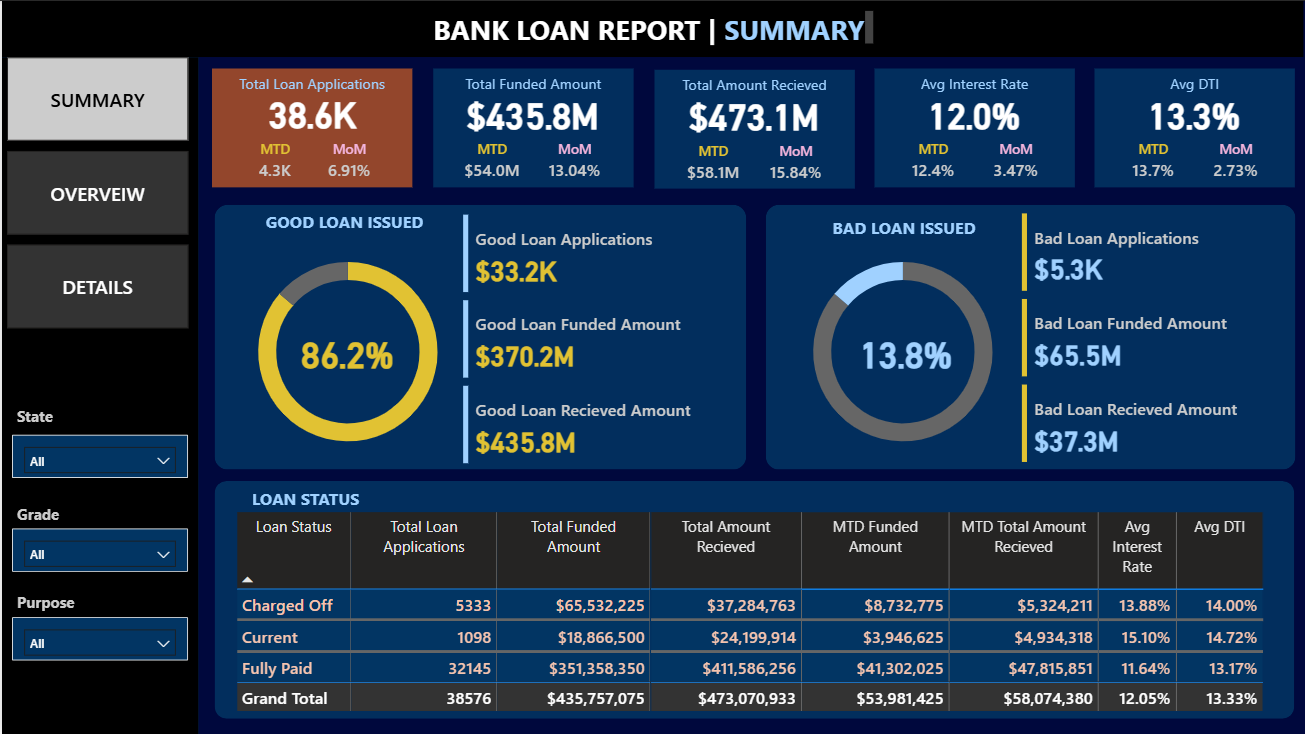

Layout of this report page (visuals, bound fields, positions):
{"tool":"powerbi","page":{"name":"SUMMARY","canvas":[1280,720],"ordinal":0},"visuals":[{"type":"shape","box":[856.5,65.7,196.7,116.7],"z":0,"group":"g4"},{"type":"shape","box":[1072.9,65.7,196.7,116.7],"z":0,"group":"g5"},{"type":"shape","box":[205.6,66.7,196.7,116.7],"z":0,"group":"g1"},{"type":"shape","box":[422.9,66.7,196.7,116.7],"z":0,"group":"g2"},{"type":"shape","box":[640.2,67.1,196.7,116.7],"z":0,"group":"g3"},{"type":"shape","box":[208,200,522,260],"z":0},{"type":"card","fields":{"Values":["bank_loan_data.Avg Interest Rate"]},"box":[873,82.7,163.3,53.3],"z":1000,"group":"g4"},{"type":"card","fields":{"Values":["bank_loan_data.Avg DTI"]},"box":[1089.4,82.7,163.3,53.3],"z":1000,"group":"g5"},{"type":"card","fields":{"Values":["bank_loan_data.Total Loan Applications"]},"box":[238.9,82.9,131.2,53.8],"z":1000,"group":"g1"},{"type":"card","fields":{"Values":["bank_loan_data.Total Funded Amount"]},"box":[439.4,83.7,163.3,53.3],"z":1000,"group":"g2"},{"type":"card","fields":{"Values":["bank_loan_data.Total Amount Recieved"]},"box":[656.7,84.1,163.3,53.3],"z":1000,"group":"g3"},{"type":"donutChart","fields":{"Category":["bank_loan_data.Good v Bad Loan"],"Y":["bank_loan_data.Total Loan Applications"]},"box":[215,230,250,230],"z":1000},{"type":"shape","box":[0,0,1277.5,55],"z":2000},{"type":"textbox","box":[856.5,65.7,196.7,31.7],"z":2000,"group":"g4"},{"type":"textbox","box":[1072.9,65.7,196.7,31.7],"z":2000,"group":"g5"},{"type":"textbox","box":[205.6,66.7,196.7,31.7],"z":2000,"group":"g1"},{"type":"textbox","box":[422.9,66.7,196.7,31.7],"z":2000,"group":"g2"},{"type":"textbox","box":[640.2,67.1,196.7,31.7],"z":2000,"group":"g3"},{"type":"card","title":"MTD","fields":{"Values":["bank_loan_data.MTD Avg Interest Rate"]},"box":[880.8,136.1,66.7,46.7],"z":3000,"group":"g4"},{"type":"card","title":"MTD","fields":{"Values":["bank_loan_data.MTD Avg DTI"]},"box":[1097.2,136.1,66.7,46.7],"z":3000,"group":"g5"},{"type":"card","title":"MTD","fields":{"Values":["bank_loan_data.MTD Loan Applications"]},"box":[238.9,136.7,57.5,46.2],"z":3000,"group":"g1"},{"type":"card","title":"MTD","fields":{"Values":["bank_loan_data.MTD Funded Amount"]},"box":[447.2,137.1,66.7,46.7],"z":3000,"group":"g2"},{"type":"card","title":"MTD","fields":{"Values":["bank_loan_data.MTD Total Amount Recieved"]},"box":[664.5,137.5,66.7,46.7],"z":3000,"group":"g3"},{"type":"textbox","box":[238.3,200,196.7,31.7],"z":3000},{"type":"shape","box":[0,55,193,665],"z":4000},{"type":"card","title":"MoM","fields":{"Values":["bank_loan_data.MoM Avg Int Rate"]},"box":[961.9,136.1,66.7,46.7],"z":4000,"group":"g4"},{"type":"card","title":"MoM","fields":{"Values":["bank_loan_data.MoM Avg DTI"]},"box":[1178.3,136.1,66.7,46.7],"z":4000,"group":"g5"},{"type":"card","title":"MoM","fields":{"Values":["bank_loan_data.MoM Loan Applications"]},"box":[311.4,136.7,58.8,46.2],"z":4000,"group":"g1"},{"type":"card","title":"MoM","fields":{"Values":["bank_loan_data.MoM Funded Amount"]},"box":[528.3,137.1,66.7,46.7],"z":4000,"group":"g2"},{"type":"card","title":"MoM","fields":{"Values":["bank_loan_data.MoM Total Amount Recieved"]},"box":[745.6,137.5,66.7,46.7],"z":4000,"group":"g3"},{"type":"card","fields":{"Values":["bank_loan_data.Good Loan %"]},"box":[257.5,317.5,162.5,55],"z":5000},{"type":"textbox","box":[418.3,5,441.7,43.3],"z":6000},{"type":"group","id":"g1","title":"Group 1","box":[205.6,66.7,196.7,116.7],"z":7000},{"type":"group","id":"g2","title":"Group 1","box":[422.9,66.7,196.7,117],"z":8000},{"type":"group","id":"g3","title":"Group 1","box":[640.2,67.1,195.7,117.1],"z":9000},{"type":"group","id":"g4","title":"Group 1","box":[856.5,65.7,195.7,117.1],"z":10000},{"type":"group","id":"g5","title":"Group 1","box":[1072.9,65.7,195.7,117.1],"z":11000},{"type":"shape","box":[750,200,520,260],"z":12000},{"type":"cardVisual","fields":{"Data":["bank_loan_data.Good Loan Applications","bank_loan_data.Good Loan Funded Amount","bank_loan_data.Good Loan Recieved Amount"]},"box":[447.5,205,275,255],"z":13000},{"type":"donutChart","fields":{"Category":["bank_loan_data.Good v Bad Loan"],"Y":["bank_loan_data.Total Loan Applications"]},"box":[760,230,250,230],"z":14000},{"type":"shape","box":[208.3,471.7,1060,233.3],"z":15000},{"type":"textbox","box":[786,206,198,32],"z":16000},{"type":"card","fields":{"Values":["bank_loan_data.Bad Loan %"]},"box":[806,318,162,54],"z":17000},{"type":"cardVisual","fields":{"Data":["bank_loan_data.Bad Loan Applications","bank_loan_data.Bad Loan Funded Amount","bank_loan_data.Bad Loan Recieved Amount"]},"box":[996,204,274,254],"z":18000},{"type":"tableEx","fields":{"Values":["bank_loan_data.loan_status","bank_loan_data.Total Loan Applications","bank_loan_data.Total Funded Amount","bank_loan_data.Total Amount Recieved","bank_loan_data.MTD Funded Amount","bank_loan_data.MTD Total Amount Recieved","bank_loan_data.Avg Interest Rate","bank_loan_data.Avg DTI"]},"box":[225,497.5,1027.5,205],"z":19000},{"type":"textbox","box":[240,472.5,197.5,32.5],"z":20000},{"type":"slicer","fields":{"Values":["bank_loan_data.address_state"]},"box":[10,425.4,172.5,42.5],"z":21000},{"type":"textbox","box":[10,392.9,96.2,40],"z":22000},{"type":"slicer","fields":{"Values":["bank_loan_data.grade"]},"box":[10,517.9,172.5,42.5],"z":23000},{"type":"textbox","box":[10,487.9,96.2,40],"z":24000},{"type":"slicer","fields":{"Values":["bank_loan_data.purpose"]},"box":[10,605.4,172.5,42.5],"z":25000},{"type":"textbox","box":[10,575.4,96.2,40],"z":26000},{"type":"pageNavigator","box":[5,55,178.3,268.3],"z":26001}]}

Visuals, with their boxes in screenshot pixels (x1, y1, x2, y2), scaled from the page's 1280x720 canvas onto the 1305x734 screenshot:
shape: locate(873, 67, 1074, 186)
shape: locate(1094, 67, 1294, 186)
shape: locate(210, 68, 410, 187)
shape: locate(431, 68, 632, 187)
shape: locate(653, 68, 853, 187)
shape: locate(212, 204, 744, 469)
card - bank_loan_data.Avg Interest Rate: locate(890, 84, 1057, 139)
card - bank_loan_data.Avg DTI: locate(1111, 84, 1277, 139)
card - bank_loan_data.Total Loan Applications: locate(244, 85, 377, 139)
card - bank_loan_data.Total Funded Amount: locate(448, 85, 614, 140)
card - bank_loan_data.Total Amount Recieved: locate(670, 86, 836, 140)
donutChart - bank_loan_data.Good v Bad Loan x bank_loan_data.Total Loan Applications: locate(219, 234, 474, 469)
shape: locate(0, 0, 1302, 56)
textbox: locate(873, 67, 1074, 99)
textbox: locate(1094, 67, 1294, 99)
textbox: locate(210, 68, 410, 100)
textbox: locate(431, 68, 632, 100)
textbox: locate(653, 68, 853, 101)
"MTD" card: locate(898, 139, 966, 186)
"MTD" card: locate(1119, 139, 1187, 186)
"MTD" card: locate(244, 139, 302, 186)
"MTD" card: locate(456, 140, 524, 187)
"MTD" card: locate(677, 140, 745, 188)
textbox: locate(243, 204, 443, 236)
shape: locate(0, 56, 197, 733)
"MoM" card: locate(981, 139, 1049, 186)
"MoM" card: locate(1201, 139, 1269, 186)
"MoM" card: locate(317, 139, 377, 186)
"MoM" card: locate(539, 140, 607, 187)
"MoM" card: locate(760, 140, 828, 188)
card - bank_loan_data.Good Loan %: locate(263, 324, 428, 380)
textbox: locate(426, 5, 877, 49)
"Group 1" group: locate(210, 68, 410, 187)
"Group 1" group: locate(431, 68, 632, 187)
"Group 1" group: locate(653, 68, 852, 188)
"Group 1" group: locate(873, 67, 1073, 186)
"Group 1" group: locate(1094, 67, 1293, 186)
shape: locate(765, 204, 1295, 469)
cardVisual - bank_loan_data.Good Loan Applications x bank_loan_data.Good Loan Funded Amount: locate(456, 209, 737, 469)
donutChart - bank_loan_data.Good v Bad Loan x bank_loan_data.Total Loan Applications: locate(775, 234, 1030, 469)
shape: locate(212, 481, 1293, 719)
textbox: locate(801, 210, 1003, 243)
card - bank_loan_data.Bad Loan %: locate(822, 324, 987, 379)
cardVisual - bank_loan_data.Bad Loan Applications x bank_loan_data.Bad Loan Funded Amount: locate(1015, 208, 1295, 467)
tableEx - bank_loan_data.loan_status x bank_loan_data.Total Loan Applications: locate(229, 507, 1277, 716)
textbox: locate(245, 482, 446, 515)
slicer - bank_loan_data.address_state: locate(10, 434, 186, 477)
textbox: locate(10, 401, 108, 441)
slicer - bank_loan_data.grade: locate(10, 528, 186, 571)
textbox: locate(10, 497, 108, 538)
slicer - bank_loan_data.purpose: locate(10, 617, 186, 660)
textbox: locate(10, 587, 108, 627)
pageNavigator: locate(5, 56, 187, 330)
